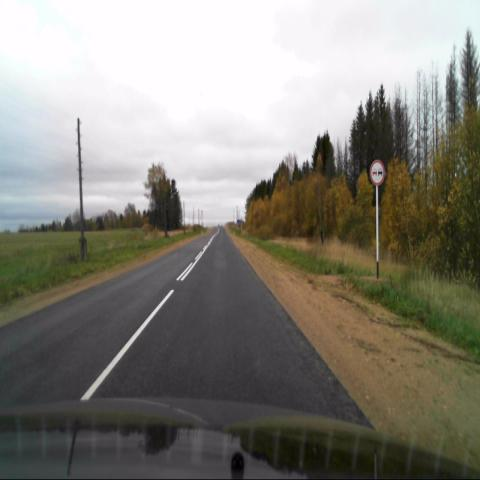3_20: (369, 159, 385, 187)
